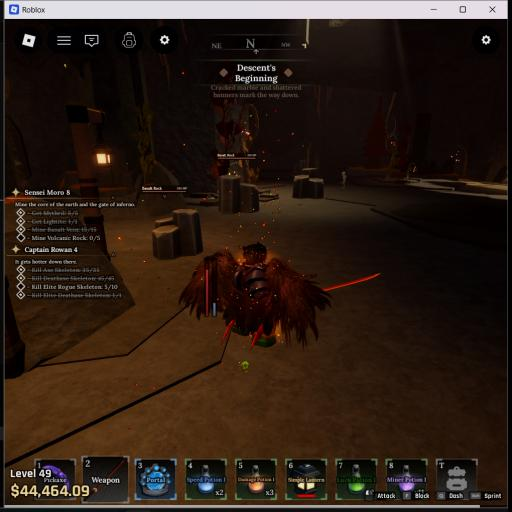player: (179, 243, 331, 348)
rock: (152, 209, 202, 260), (219, 175, 259, 213), (293, 159, 323, 198), (153, 225, 181, 260), (292, 174, 323, 199)
